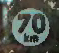Speed limit: (1, 3, 54, 47)
